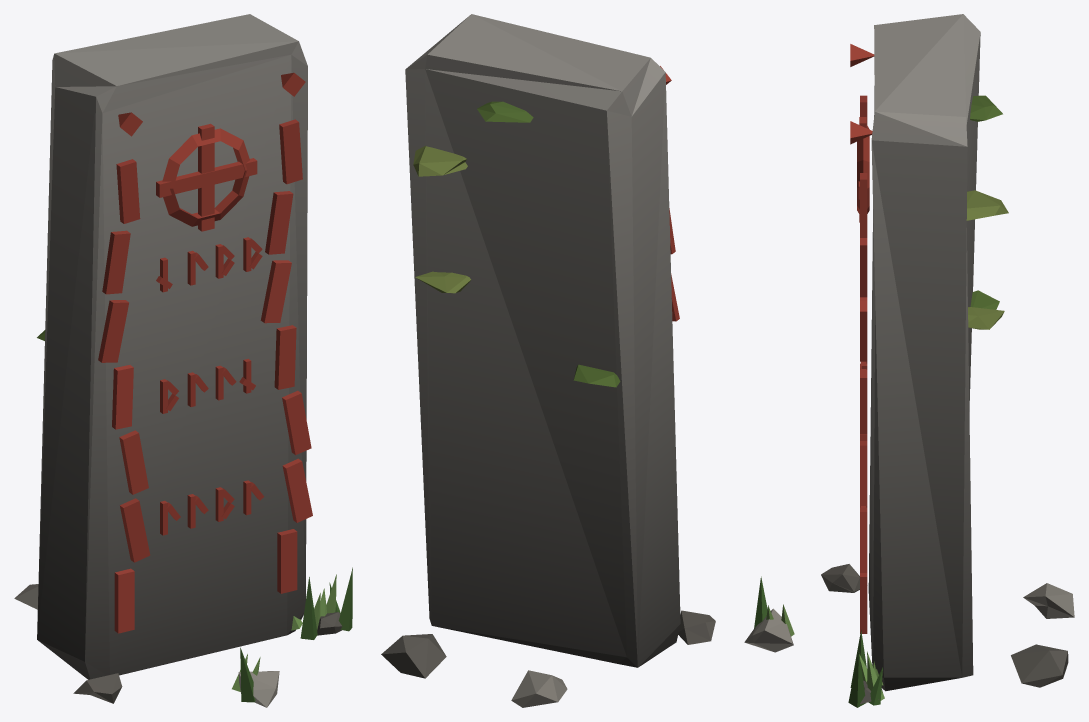
Rendered from runestone.glb.
The picture shows the model from 3 angles, left to right: view 1: azimuth 30°, elevation 25°; view 2: azimuth 150°, elevation 25°; view 3: azimuth 270°, elevation 25°; orthographic projection. The views are drawn at different scales.
Parts seen in each view (by area): view 1: runestone; view 2: runestone; view 3: runestone.
Boxes of the visible parts, box(x1,y1,x2,y2) form: runestone: box(14, 14, 352, 707); runestone: box(381, 14, 715, 707); runestone: box(744, 14, 1074, 707).
Size of the model in its own units: 1.21 by 2.46 by 1.26.
